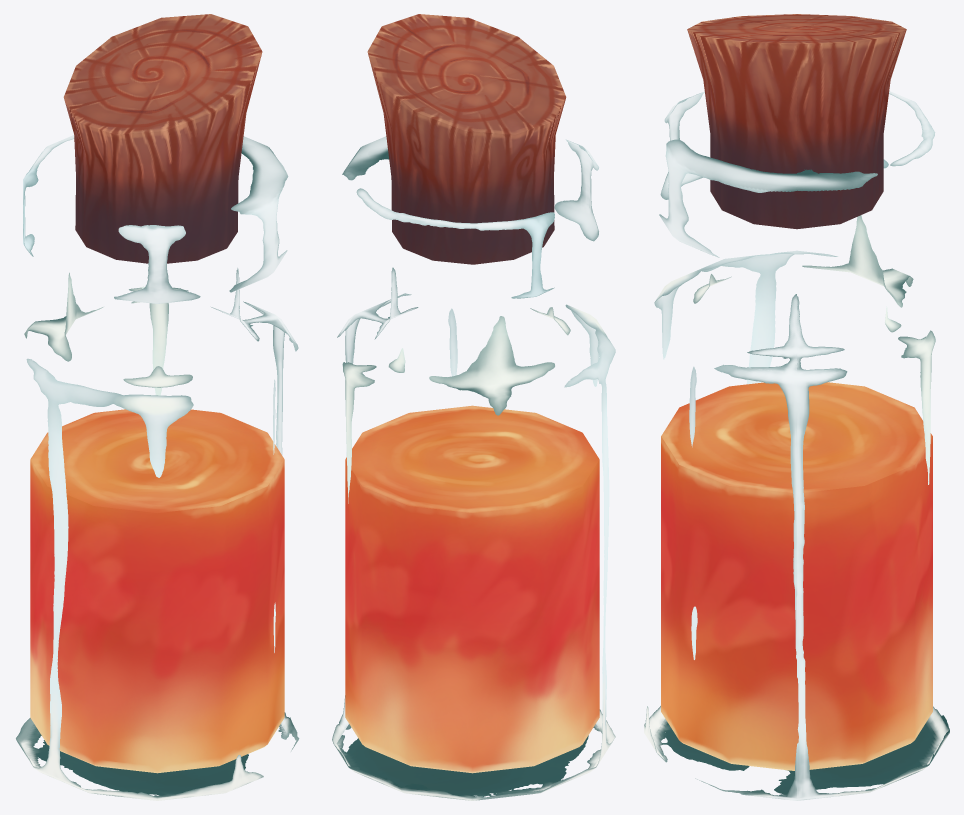
Rendered from Magic_Potion.fbx.
3 renders of one model, left to right at view 1: azimuth 30°, elevation 25°; view 2: azimuth 150°, elevation 25°; view 3: azimuth 270°, elevation 25°, orthographic. The views are drawn at different scales.
Visible parts, largest first — view 1: Bottle; view 2: Bottle; view 3: Bottle.
Boxes of the visible parts, bbox=[...] form: Bottle: bbox=[16, 14, 299, 800]; Bottle: bbox=[332, 14, 615, 800]; Bottle: bbox=[644, 14, 949, 800].
Size of the model in its own units: 0.0934 by 0.2503 by 0.0934.
